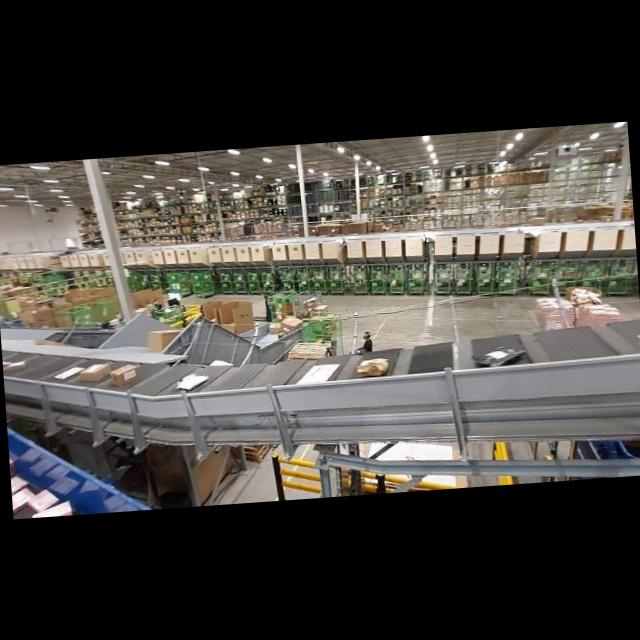box: (147, 329, 183, 353), (110, 363, 141, 388), (78, 363, 112, 383), (268, 320, 284, 334)
mailer: (473, 347, 524, 366), (297, 364, 339, 384), (356, 358, 388, 377), (176, 374, 208, 390), (54, 367, 83, 379), (3, 362, 25, 371)
